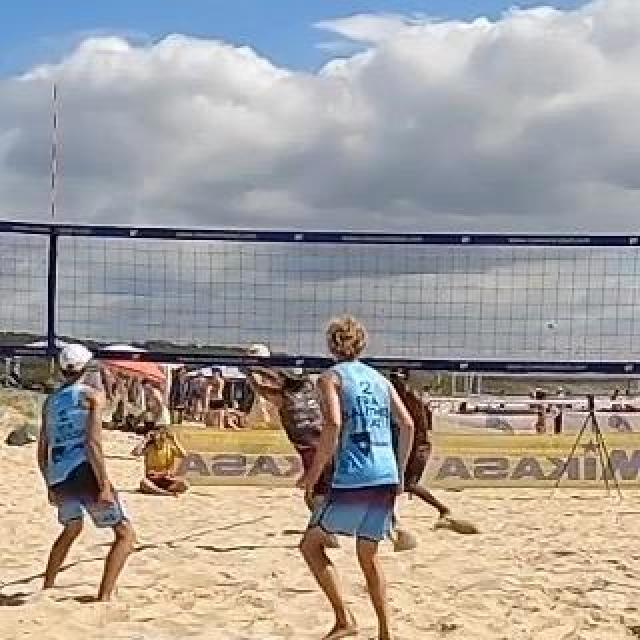volleyball: (246, 344, 272, 370)
